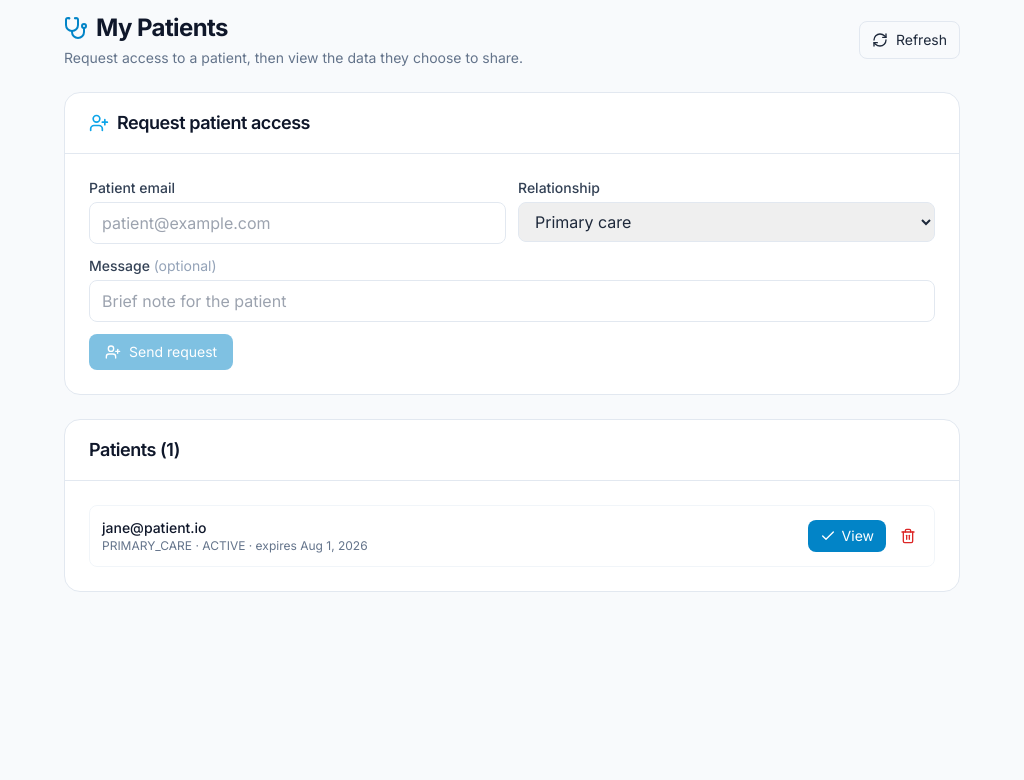
Test: MyPatientsPage › shows the not-shared fallback and skips the fetch when a scope is denied
Step 1. Click the button "View" → (847, 536), box [808,520,886,552]
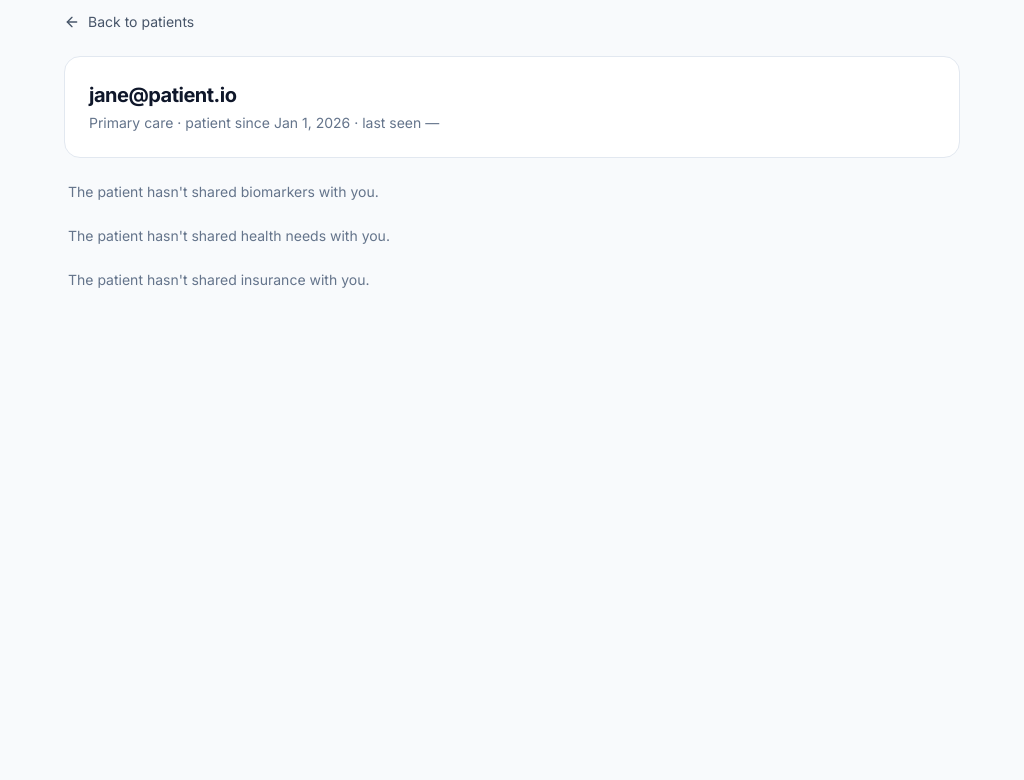
Result: the text "The patient hasn't shared biomarkers with you." is shown at [68,183,379,200]
Result: the text "The patient hasn't shared health needs with you." is shown at [68,227,390,244]
